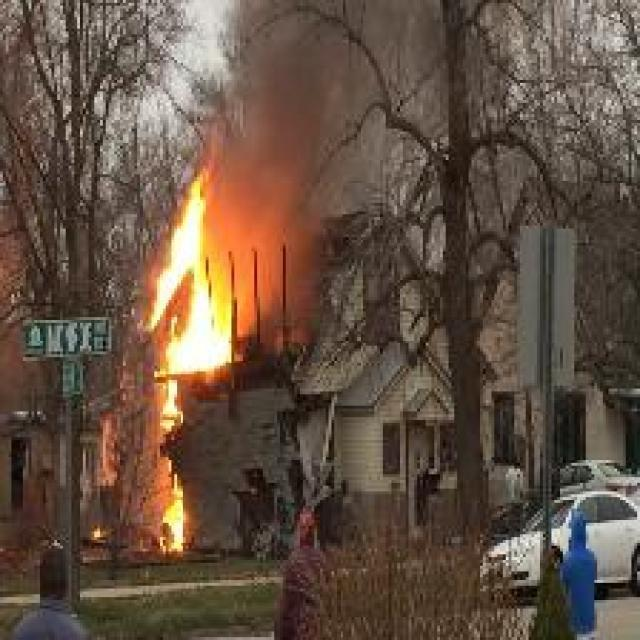Fire: (140, 168, 234, 372), (162, 498, 184, 550)
